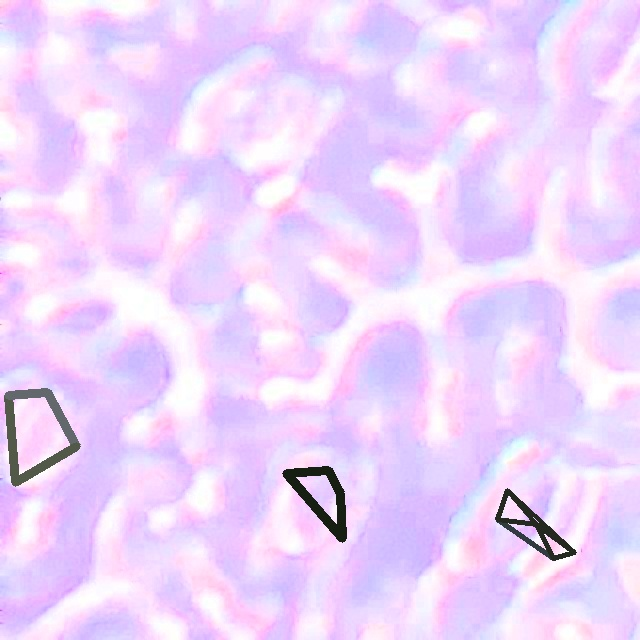close: (4, 388, 79, 486), (282, 466, 344, 542)
open: (495, 488, 576, 560)
